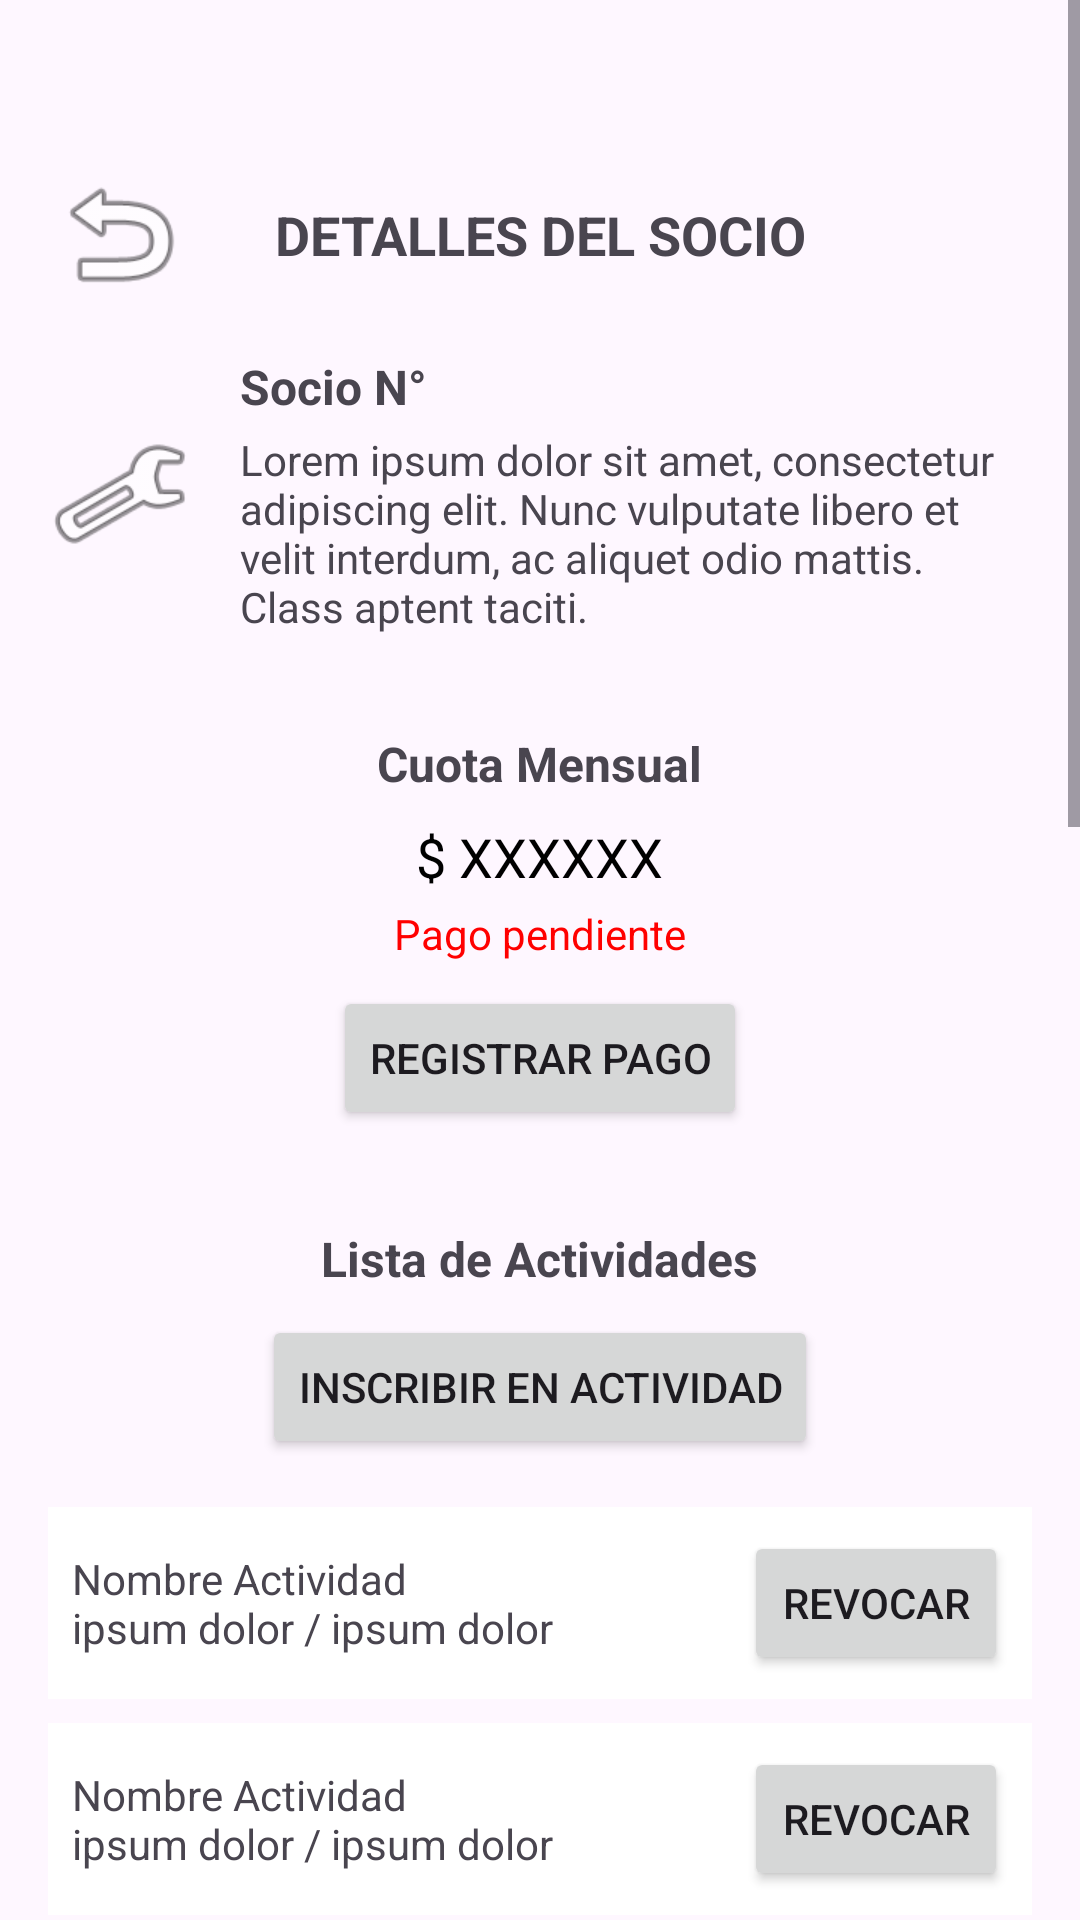

Icon bounding boxes for this 1080 x 1920 phone screenshot, format (x1, y1, x2, y2):
Volver: (70, 188, 174, 282)
